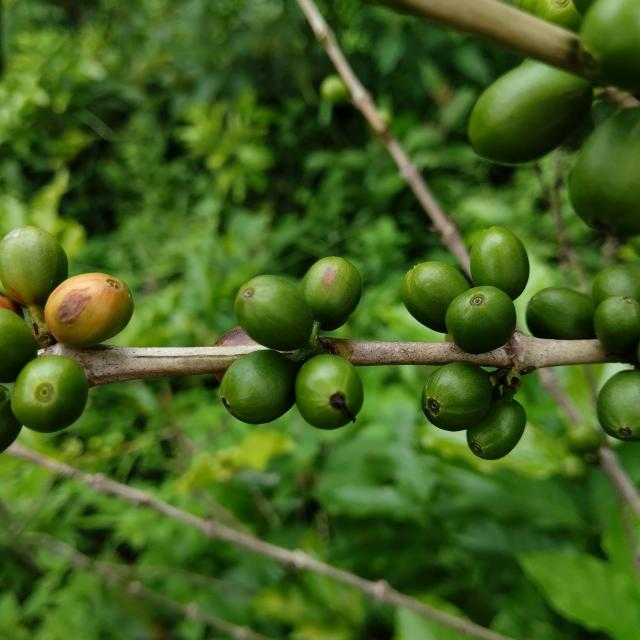green: (469, 59, 594, 163), (570, 107, 640, 237), (44, 273, 133, 347), (10, 355, 88, 433), (234, 275, 314, 351), (220, 350, 299, 425), (0, 226, 67, 308), (296, 355, 364, 430), (422, 362, 493, 432), (402, 261, 471, 333), (446, 286, 517, 354), (300, 256, 362, 331), (471, 227, 530, 300), (467, 398, 527, 461), (527, 287, 597, 340), (598, 370, 640, 442), (0, 308, 37, 383), (595, 296, 640, 354), (593, 264, 640, 303)
